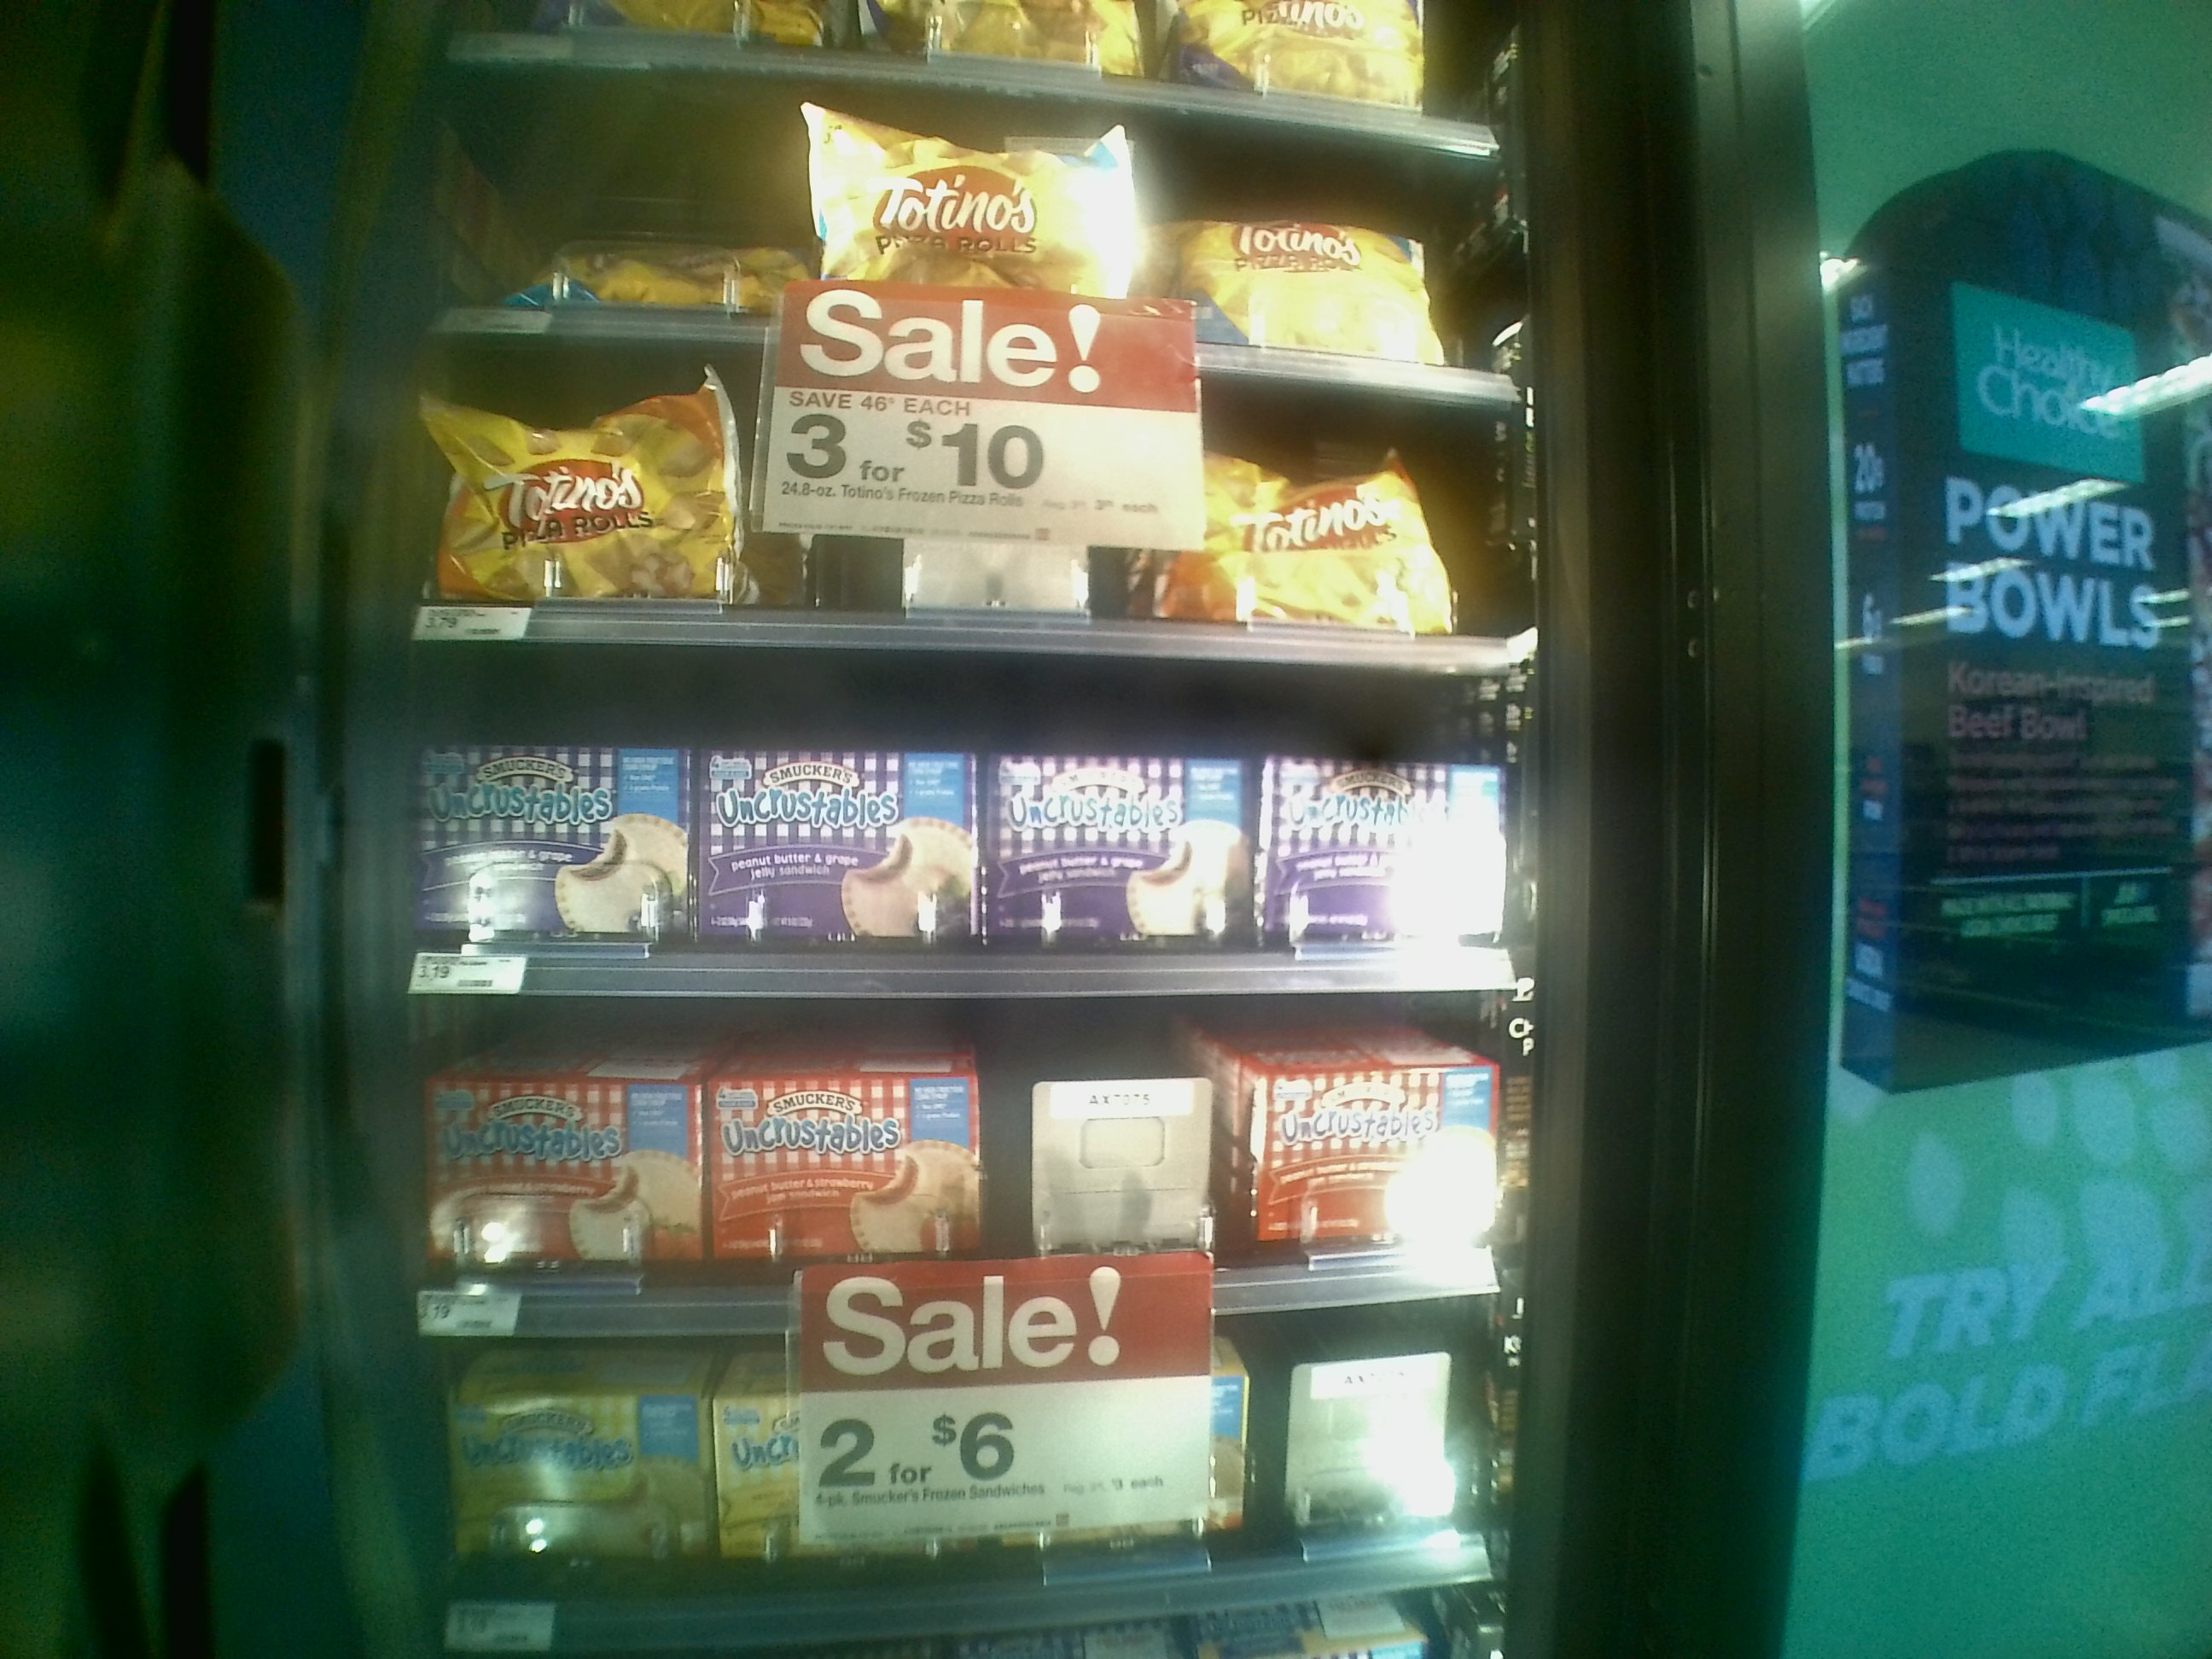shelf: (399, 321, 1522, 683), (366, 638, 1524, 988), (381, 1006, 1503, 1321)
